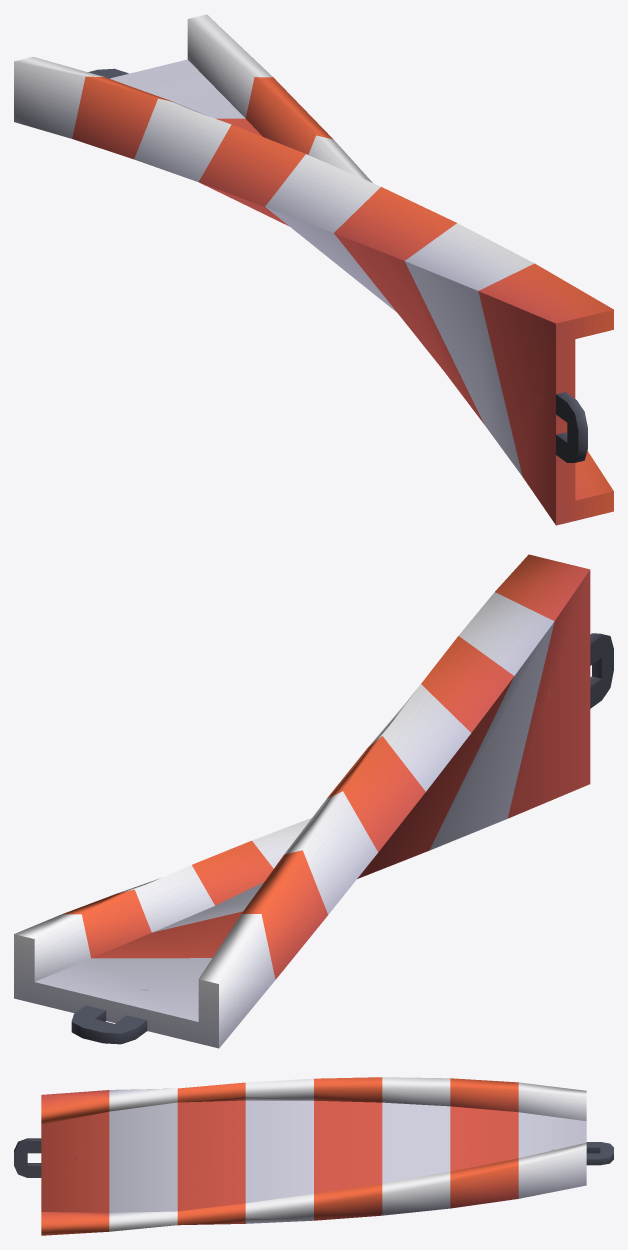
File: track-striped-narrow-straight-skew-left-side.glb
3 views of the same model, one above another, from view 1: azimuth 30°, elevation 25°; view 2: azimuth 150°, elevation 25°; view 3: azimuth 270°, elevation 25° (orthographic). The views are drawn at different scales.
Visible parts, largest first — view 1: track-striped-narrow-straight-skew-left-side; view 2: track-striped-narrow-straight-skew-left-side; view 3: track-striped-narrow-straight-skew-left-side.
Boxes of the visible parts, <box> form: track-striped-narrow-straight-skew-left-side: <box>14,14,613,525</box>; track-striped-narrow-straight-skew-left-side: <box>14,554,613,1048</box>; track-striped-narrow-straight-skew-left-side: <box>14,1077,613,1235</box>.
Bounding box in the file's own units: 1.08 × 1.08 × 4.4.
Materials: 1 (1 with a texture image).
